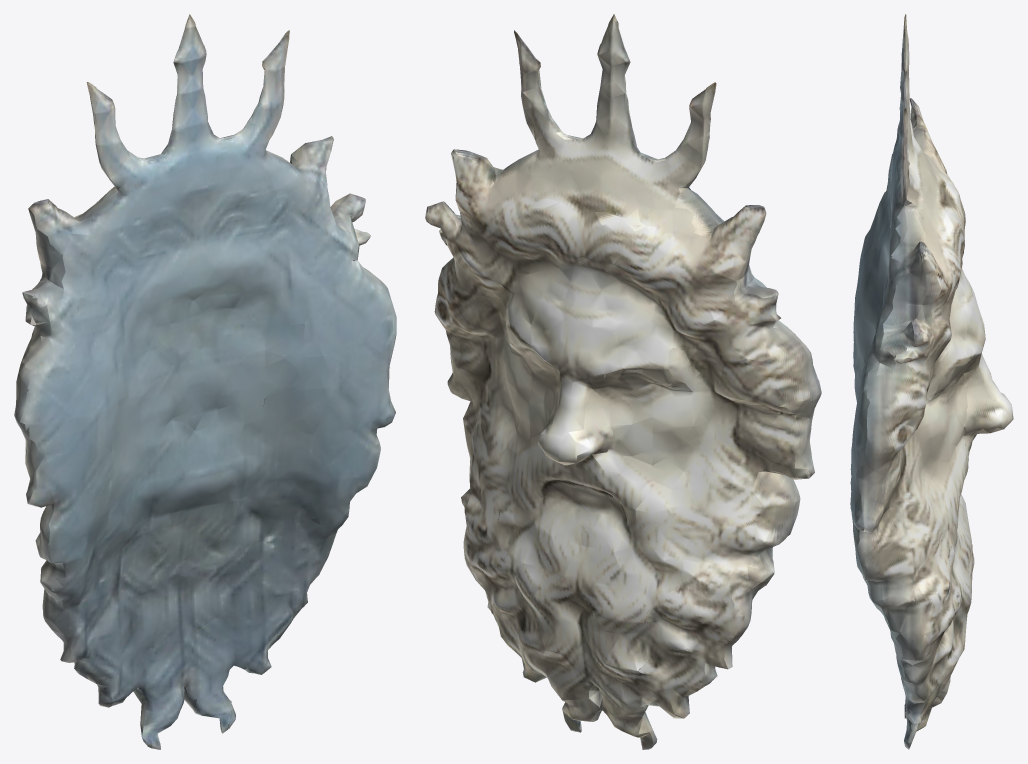
The model's file is model.enhanced.glb.
The picture shows the model from 3 angles, left to right: view 1: azimuth 30°, elevation 25°; view 2: azimuth 150°, elevation 25°; view 3: azimuth 270°, elevation 25°; orthographic projection. The views are drawn at different scales.
Parts seen in each view (by area): view 1: world; view 2: world; view 3: world.
Boxes of the visible parts, box(x1,y1,x2,y2) form: world: box(14, 14, 396, 749); world: box(425, 14, 821, 749); world: box(850, 14, 1013, 749).
Bounding box in the file's own units: 0.54 × 0.9889 × 0.2052.
1 material, 1 textured.
